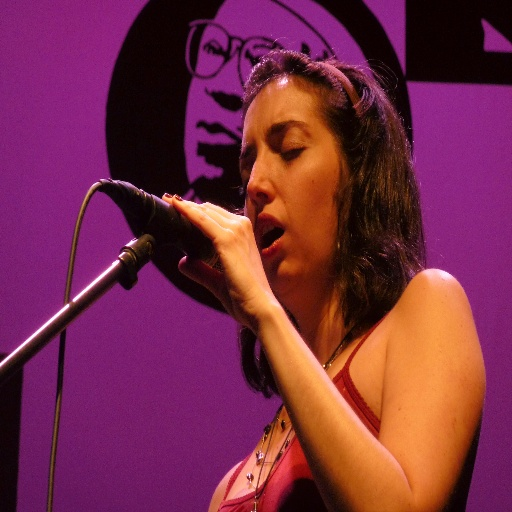hand: (180, 173, 271, 325)
